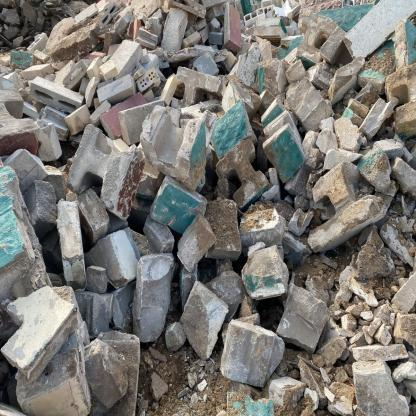brick: (1, 3, 414, 413)
